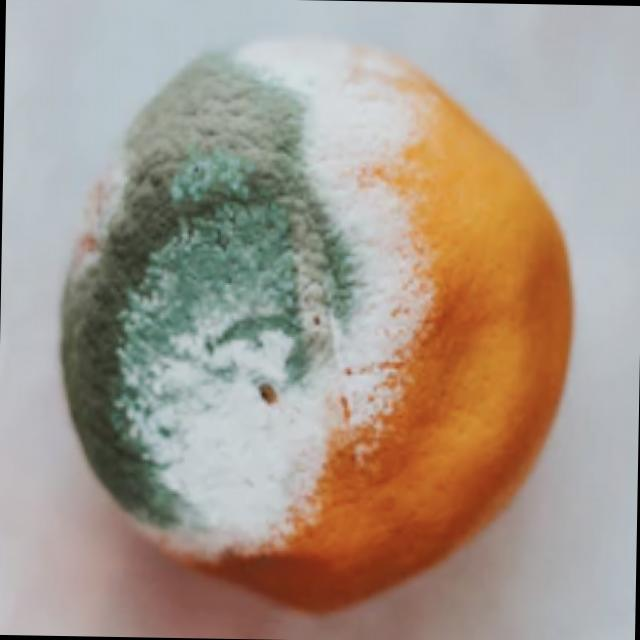rotten-orange: (56, 34, 582, 616)
